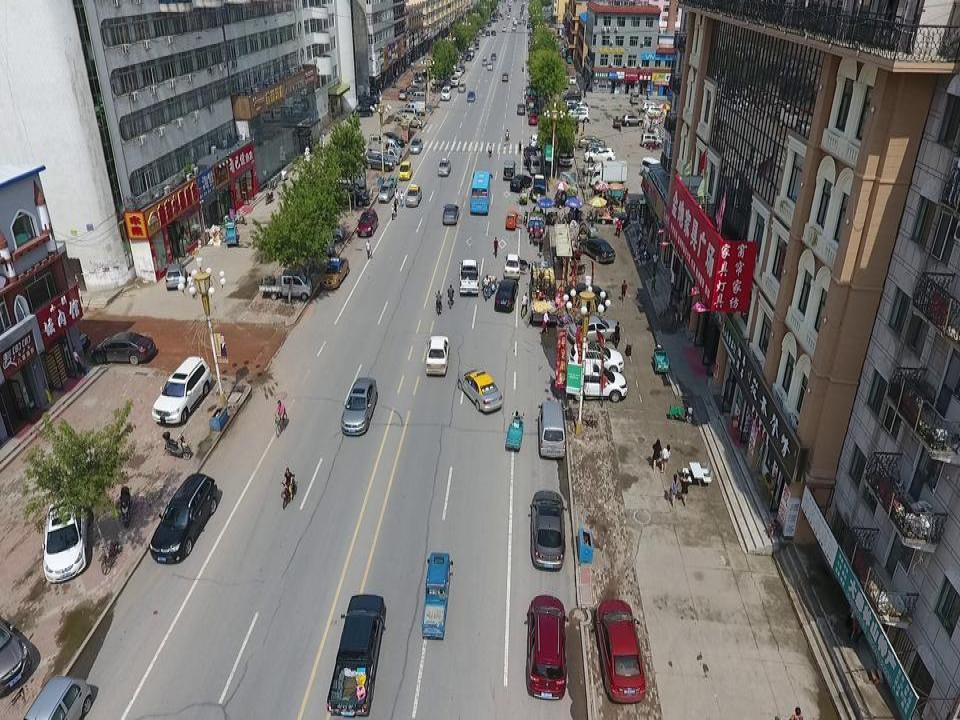bus: (468, 168, 493, 216), (554, 114, 575, 166)
car: (148, 472, 218, 564), (594, 597, 648, 704), (524, 592, 569, 700), (42, 496, 95, 585), (150, 353, 213, 427), (527, 490, 568, 574), (20, 674, 93, 720), (90, 328, 156, 367), (0, 619, 32, 697), (569, 363, 629, 404), (340, 375, 379, 437), (455, 365, 503, 415), (569, 339, 624, 376), (567, 313, 622, 344), (424, 332, 451, 377), (576, 237, 616, 264), (320, 255, 350, 289), (493, 278, 520, 314), (332, 183, 370, 208), (355, 207, 380, 238), (583, 141, 614, 163), (503, 251, 528, 278), (163, 262, 187, 290), (363, 150, 394, 170), (373, 131, 405, 148), (509, 172, 532, 193), (405, 182, 422, 206), (442, 203, 460, 225), (578, 135, 605, 149), (640, 132, 663, 145), (567, 108, 590, 121), (351, 104, 374, 117), (437, 156, 451, 177), (398, 159, 412, 180), (621, 112, 643, 125), (409, 136, 423, 155), (586, 142, 608, 154), (567, 104, 589, 116), (357, 96, 380, 107), (562, 90, 582, 102), (568, 100, 589, 111), (529, 133, 541, 151), (645, 105, 664, 116), (642, 100, 660, 111), (405, 85, 424, 95), (523, 147, 537, 160), (527, 112, 538, 127), (466, 89, 476, 103), (516, 101, 526, 115), (450, 73, 460, 87), (409, 80, 426, 88), (398, 88, 408, 100), (568, 74, 577, 86), (457, 81, 466, 92), (454, 68, 463, 77), (459, 64, 466, 75), (501, 71, 508, 81), (481, 56, 488, 65), (465, 52, 472, 61), (490, 51, 496, 60)
truck: (325, 590, 386, 720), (258, 266, 313, 302), (457, 256, 482, 296), (590, 159, 628, 185)
van: (420, 550, 454, 642), (535, 399, 567, 460), (332, 164, 366, 189), (302, 234, 335, 258), (312, 218, 345, 241), (373, 136, 402, 153), (376, 147, 400, 165), (378, 180, 395, 204), (403, 100, 426, 117), (393, 106, 416, 122), (401, 114, 422, 130), (502, 159, 517, 181), (527, 155, 541, 176), (409, 90, 426, 102), (441, 86, 451, 102), (629, 91, 639, 104), (469, 45, 475, 59), (487, 61, 493, 71)
